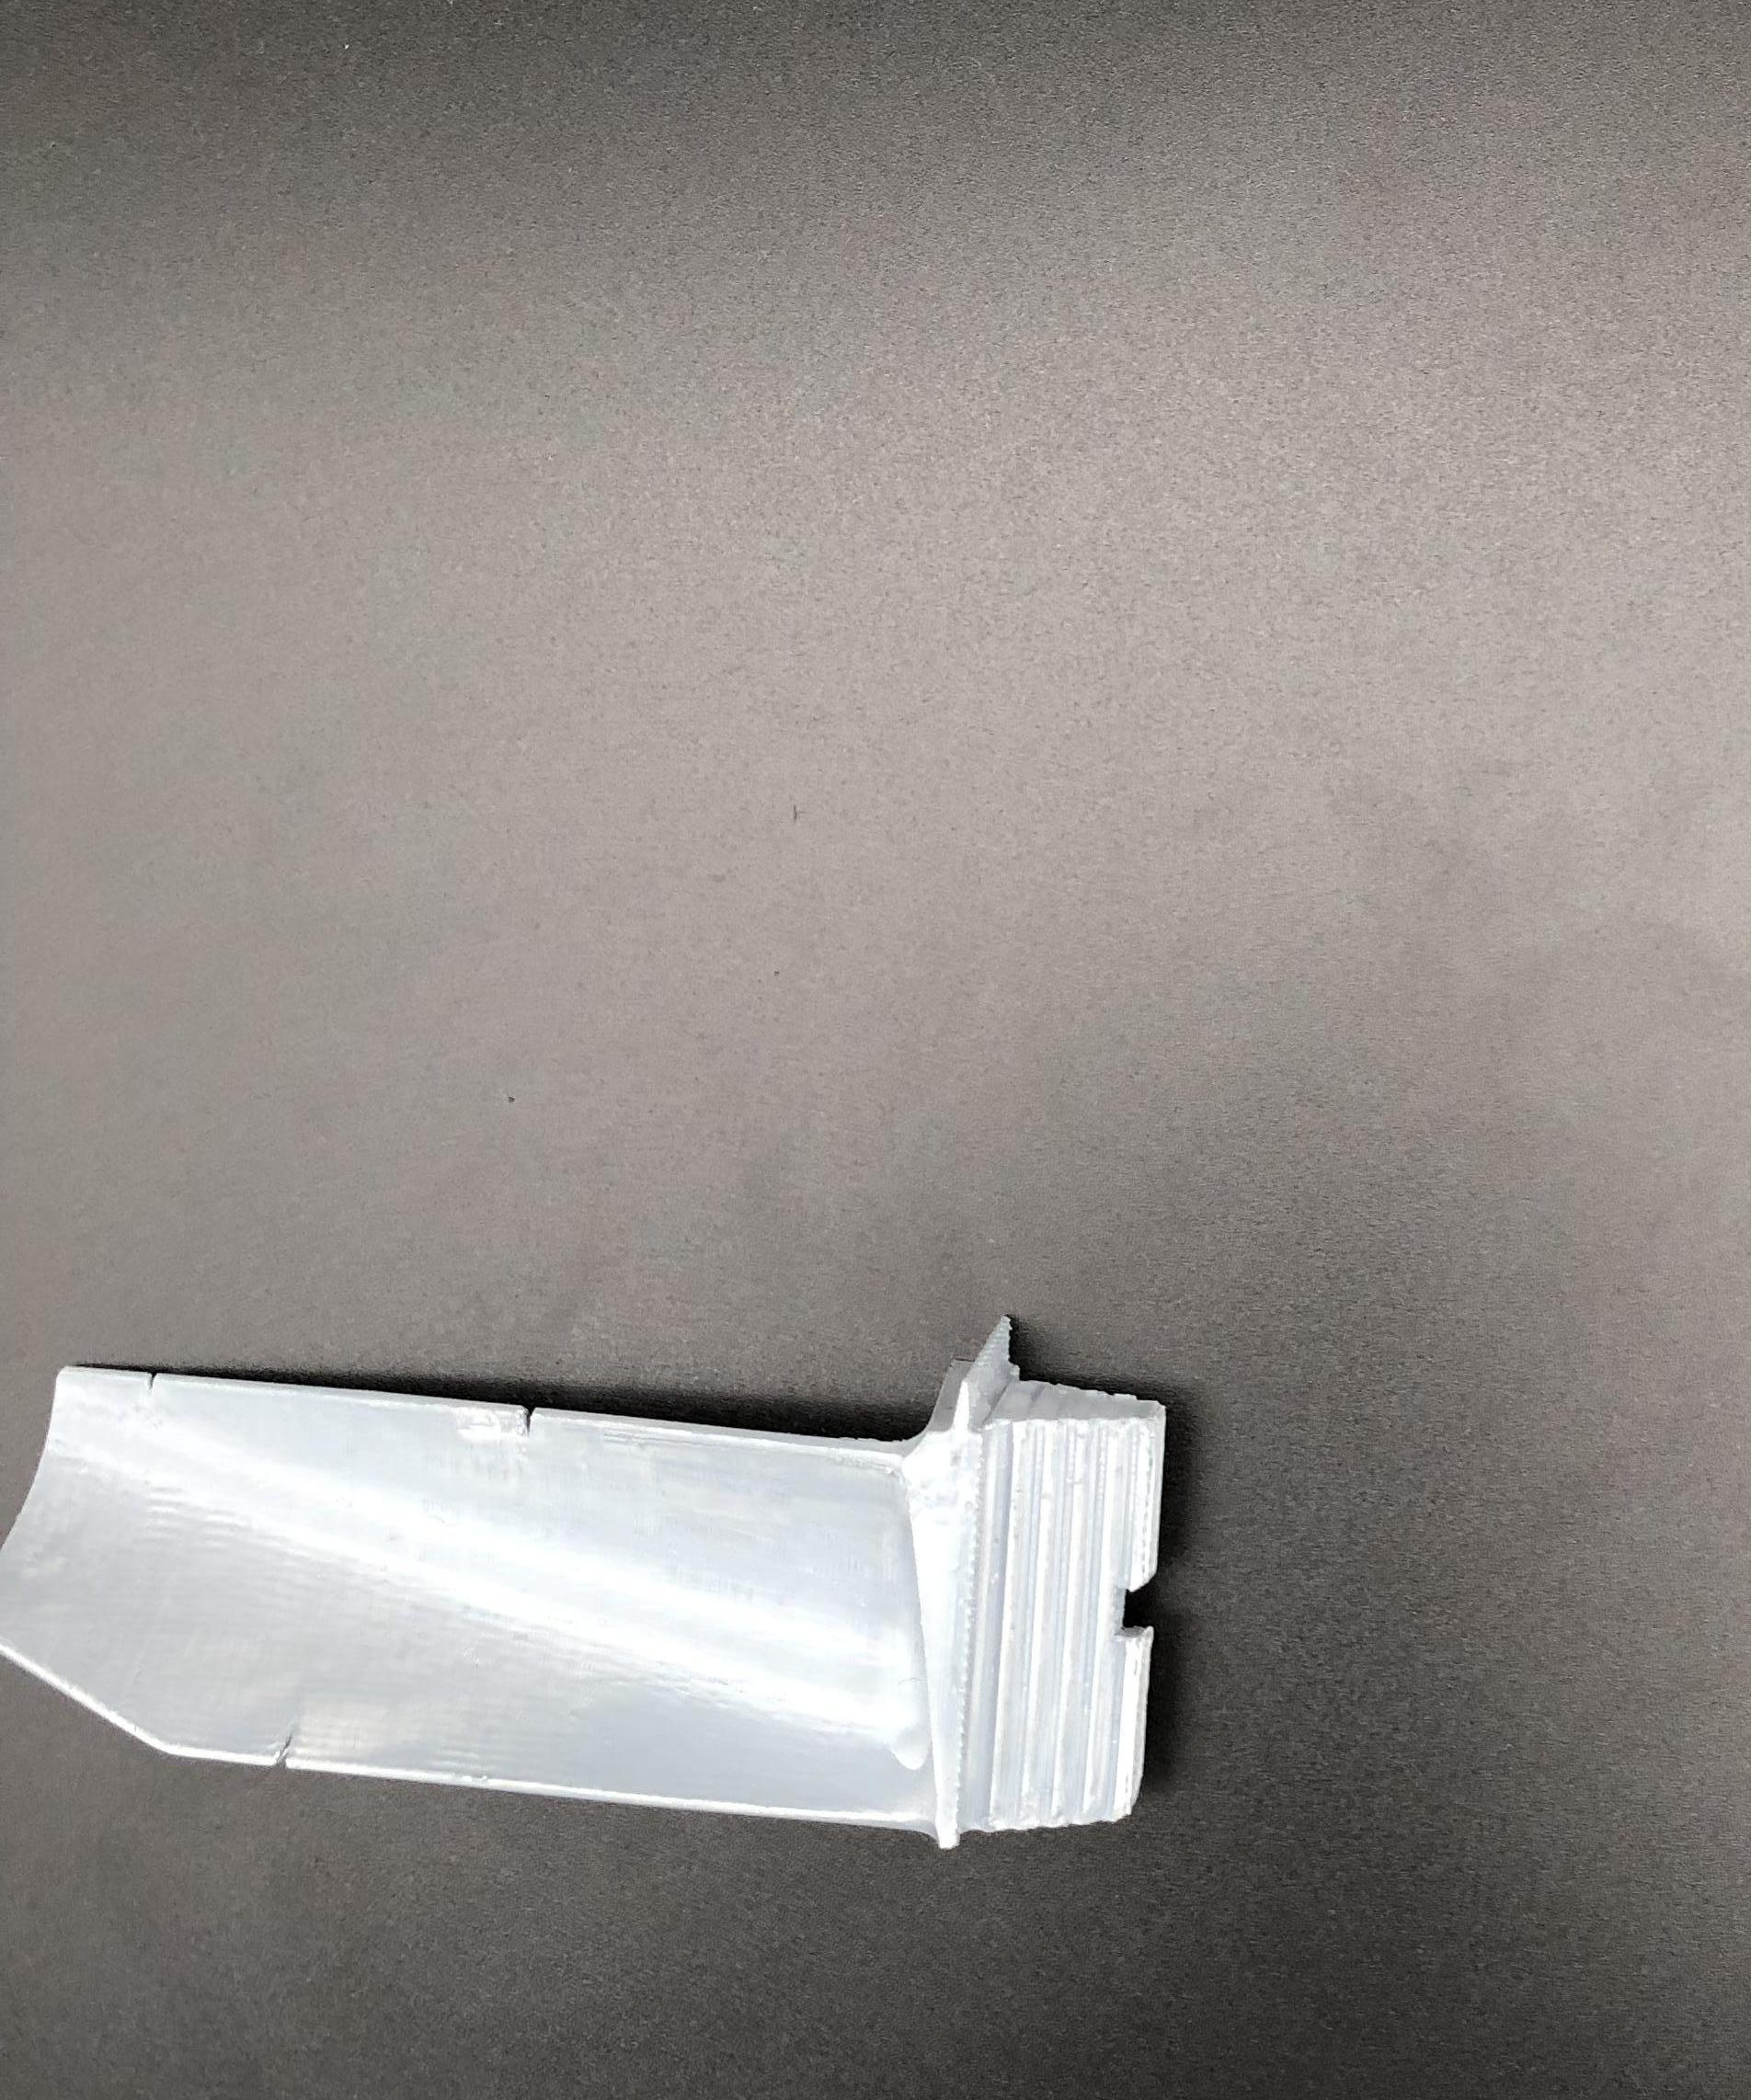groove: (258, 1711, 316, 1776), (509, 1394, 562, 1448), (133, 1360, 171, 1395)
